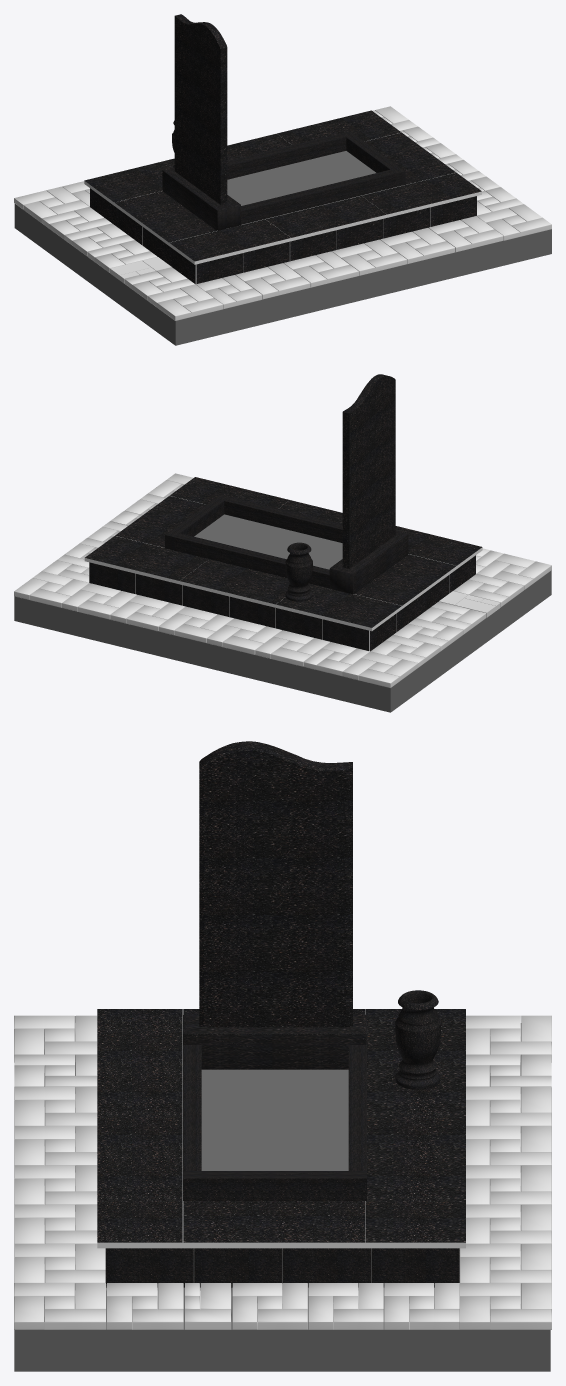
File: Комплект Волна [u_u_u].glb
The picture shows the model from 3 angles, top to bottom: view 1: azimuth 30°, elevation 25°; view 2: azimuth 150°, elevation 25°; view 3: azimuth 270°, elevation 25°; orthographic projection. The views are drawn at different scales.
Parts seen in each view (by area): view 1: Куб.106, Плоскость.145, Куб.109, Плоскость.141, Куб.104, Плоскость.159, Куб.107, Куб.111, Куб.110, Куб.103, Плоскость.151, Плоскость.142 (+13 smaller); view 2: Куб.106, Плоскость.145, Куб.109, Плоскость.143, Куб.105, Плоскость.159, Куб.111, Куб.107, Куб.110, Куб.103, Плоскость.152, Плоскость.140 (+14 smaller); view 3: Куб.106, Куб.109, Плоскость.145, Плоскость.143, Плоскость.141, Плоскость.159, Куб.102, Куб.110, Куб.108, Плоскость.140, Плоскость.142, vaza (+11 smaller).
Part boxes in pixels (left/top/right/bottom): Куб.106: left=84, top=110, right=481, bottom=264; Плоскость.145: left=14, top=204, right=551, bottom=345; Куб.109: left=174, top=14, right=227, bottom=204; Плоскость.141: left=235, top=216, right=503, bottom=299; Куб.104: left=196, top=196, right=476, bottom=283; Плоскость.159: left=227, top=151, right=404, bottom=224; Куб.107: left=241, top=169, right=395, bottom=224; Куб.111: left=227, top=133, right=346, bottom=179; Куб.110: left=162, top=167, right=240, bottom=230; Куб.103: left=90, top=188, right=196, bottom=284; Плоскость.151: left=147, top=284, right=222, bottom=320; Плоскость.142: left=477, top=204, right=551, bottom=240; Куб.106: left=84, top=477, right=482, bottom=631; Плоскость.145: left=14, top=570, right=551, bottom=712; Куб.109: left=342, top=374, right=395, bottom=568; Плоскость.143: left=62, top=583, right=330, bottom=666; Куб.105: left=89, top=562, right=369, bottom=650; Плоскость.159: left=194, top=514, right=408, bottom=569; Куб.111: left=174, top=533, right=329, bottom=588; Куб.107: left=224, top=497, right=342, bottom=542; Куб.110: left=329, top=531, right=408, bottom=594; Куб.103: left=369, top=555, right=475, bottom=651; Плоскость.152: left=342, top=651, right=418, bottom=687; Плоскость.140: left=14, top=571, right=88, bottom=607; Куб.106: left=97, top=1009, right=465, bottom=1248; Куб.109: left=199, top=741, right=352, bottom=1027; Плоскость.145: left=14, top=1287, right=550, bottom=1371; Плоскость.143: left=460, top=1087, right=551, bottom=1283; Плоскость.141: left=14, top=1087, right=106, bottom=1290; Плоскость.159: left=193, top=1069, right=371, bottom=1283; Куб.102: left=105, top=1248, right=459, bottom=1287; Куб.110: left=183, top=1014, right=367, bottom=1069; Куб.108: left=183, top=1171, right=366, bottom=1200; Плоскость.140: left=459, top=1283, right=551, bottom=1329; Плоскость.142: left=14, top=1283, right=106, bottom=1329; vaza: left=395, top=990, right=440, bottom=1089.
Size of the model in its own units: 2.36 by 1.46 by 1.75.
4 materials, 1 textured.
